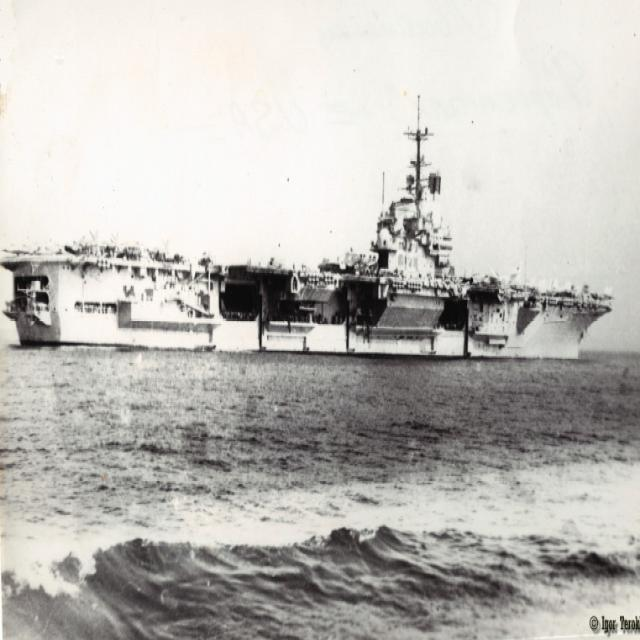Portanaves: (3, 92, 616, 348)
